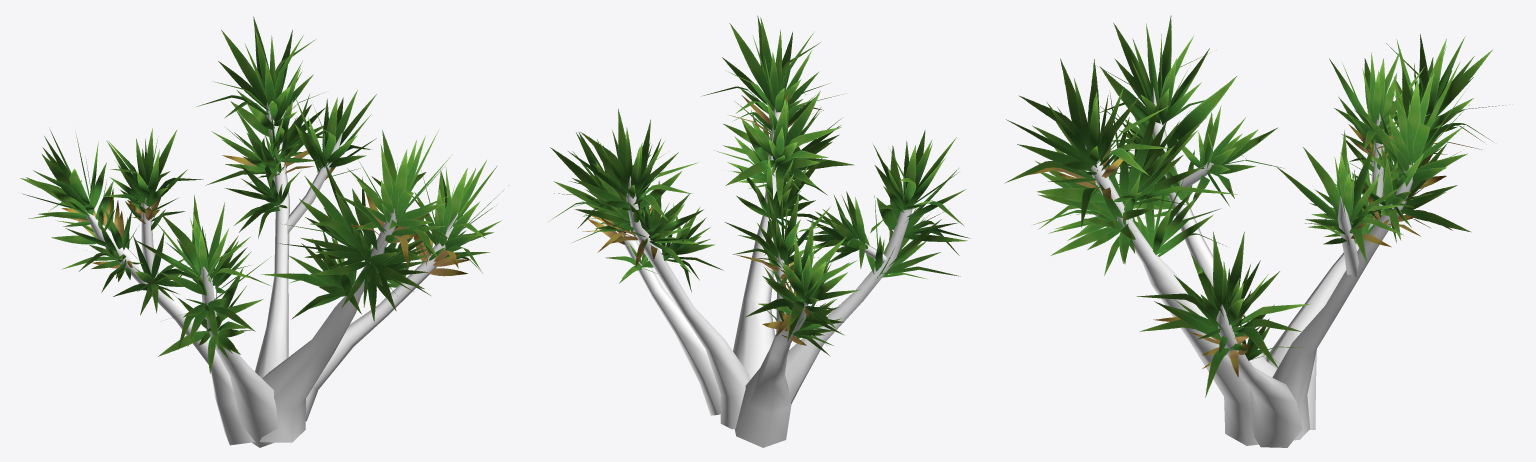
Rendered from SM_YuccaTree04.fbx.
3 views of the same model, side by side, from view 1: azimuth 30°, elevation 25°; view 2: azimuth 150°, elevation 25°; view 3: azimuth 270°, elevation 25° (orthographic). The views are drawn at different scales.
Visible parts, largest first — view 1: SM_YuccaTree04; view 2: SM_YuccaTree04; view 3: SM_YuccaTree04.
Part boxes in pixels (x1,y1,x2,y2): SM_YuccaTree04: (20,16,508,447); SM_YuccaTree04: (548,15,970,447); SM_YuccaTree04: (1004,15,1509,447).
Bounding box in the file's own units: 882 × 725 × 837.
